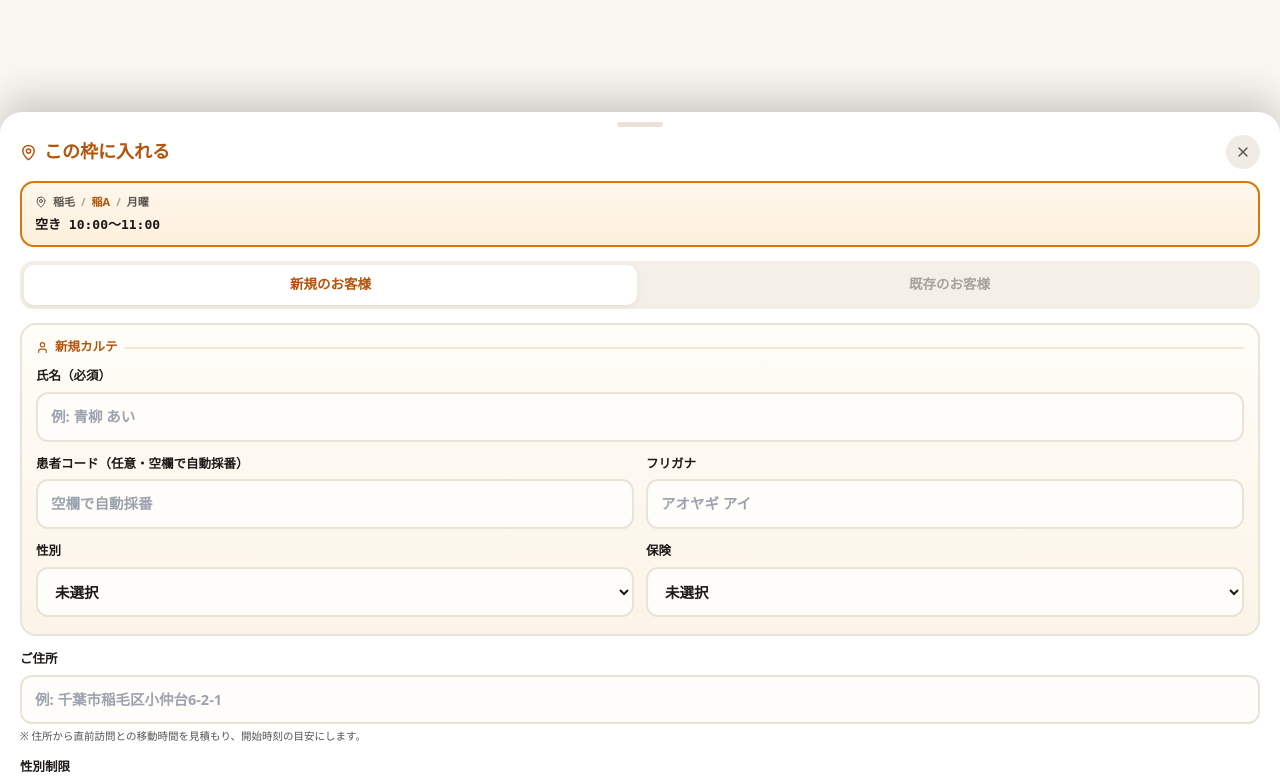
Test: PlacementSheet travel-estimate 由来の初期開始時刻 (案2: ceil+clamp) › prevVisit あり + travel total_minutes 解決で開始時刻が prevEnd+total を5分切上げ
Type "千葉市稲毛区小仲台6-2-1" into the field named "ご住所" at (640, 699), box [20,674,1260,724]
Wait 600 ms
(page scrolled)
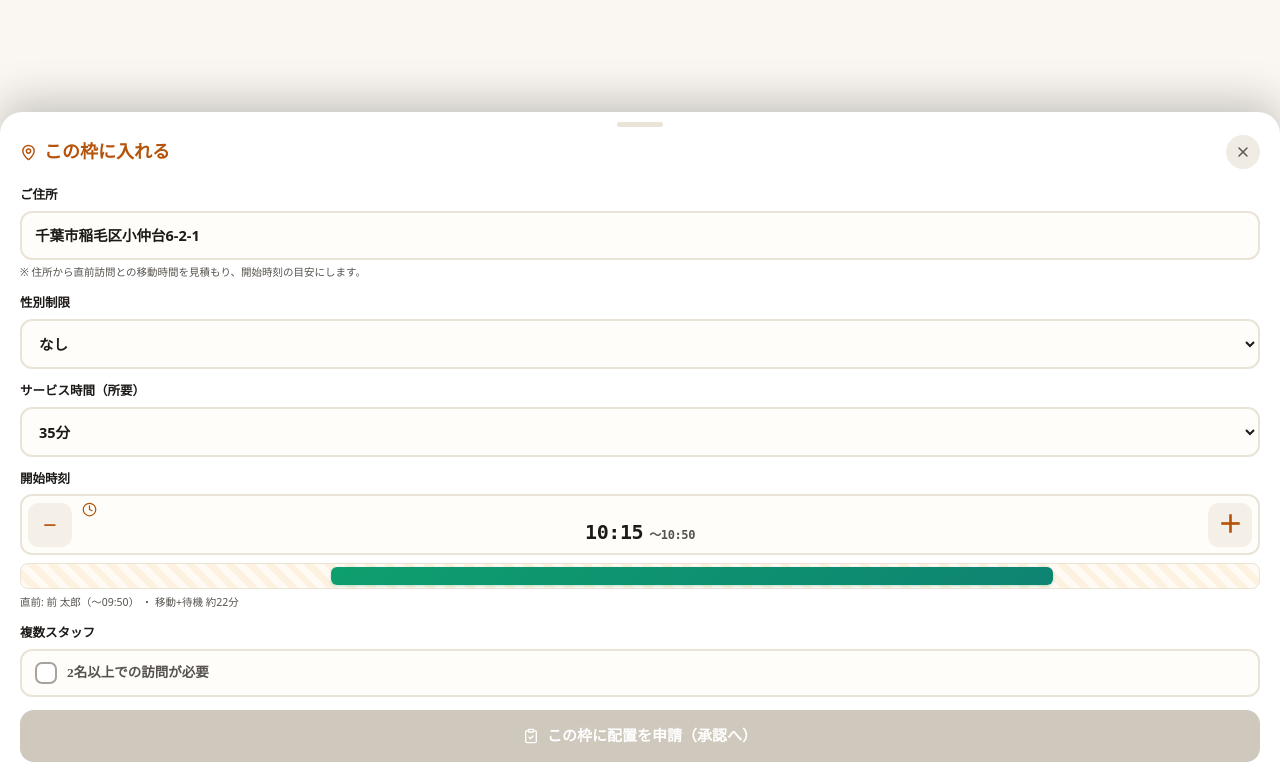
Result: the text "10:15" is shown at [585,520,643,544]
